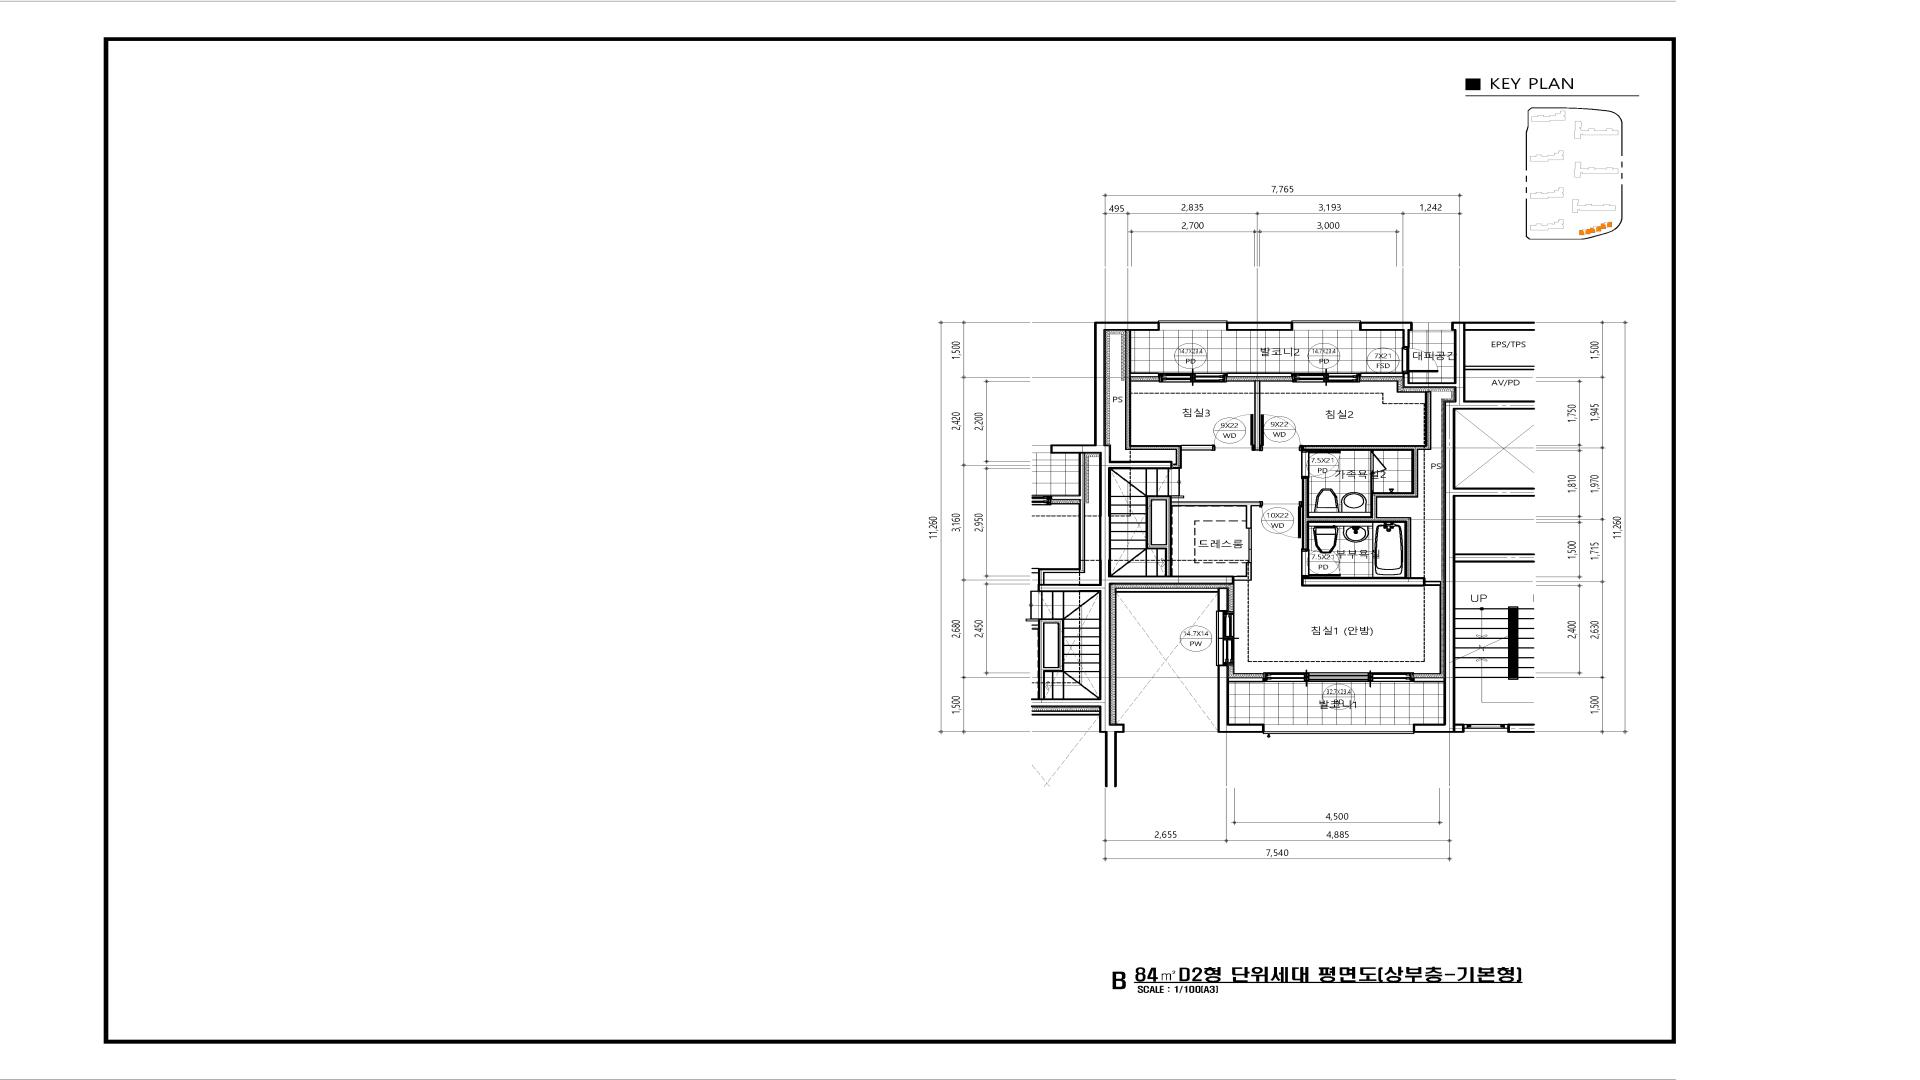background: (58, 3, 1717, 1077)
door: (1261, 501, 1302, 539), (1214, 413, 1254, 448), (1261, 413, 1301, 448), (1301, 451, 1341, 478), (1301, 550, 1341, 577), (1402, 348, 1442, 372), (1370, 451, 1388, 473)
wall: (1094, 322, 1235, 733), (1402, 322, 1535, 733), (1301, 391, 1441, 587), (1125, 331, 1214, 469), (1146, 495, 1261, 576), (1217, 666, 1265, 733), (1115, 587, 1229, 611), (1359, 322, 1413, 348), (1152, 500, 1166, 544), (1226, 322, 1293, 331), (1254, 381, 1260, 451), (1227, 372, 1292, 377), (1235, 562, 1252, 581), (1507, 723, 1535, 733), (1466, 366, 1535, 370), (1360, 372, 1403, 377), (1229, 677, 1264, 682), (1414, 677, 1443, 682), (1455, 723, 1465, 733), (1370, 474, 1374, 492)
window: (1264, 672, 1413, 682), (1216, 611, 1235, 666), (1292, 373, 1360, 383), (1159, 373, 1227, 383), (1263, 731, 1415, 734), (1158, 320, 1228, 323), (1291, 320, 1361, 323), (1465, 724, 1507, 729)
